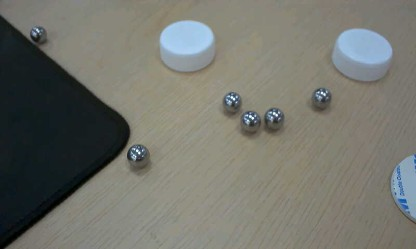ironball: (126, 144, 149, 168), (239, 110, 261, 133), (311, 86, 331, 109), (263, 107, 283, 130), (222, 91, 241, 112), (29, 25, 46, 44)
